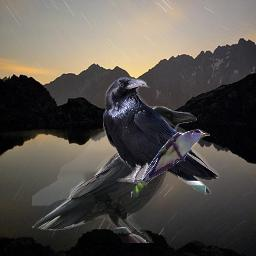Crow: (32, 106, 197, 243), (103, 77, 219, 195)
Cuckoo: (131, 129, 210, 197)
